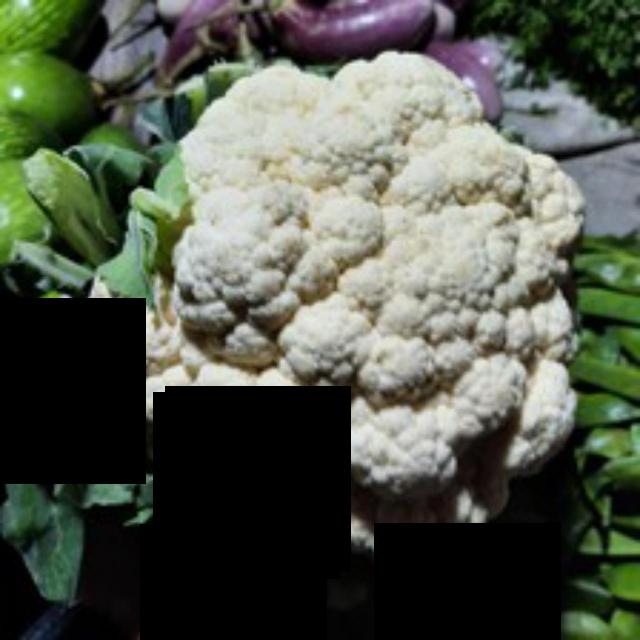cauliflower: (76, 57, 598, 564)
